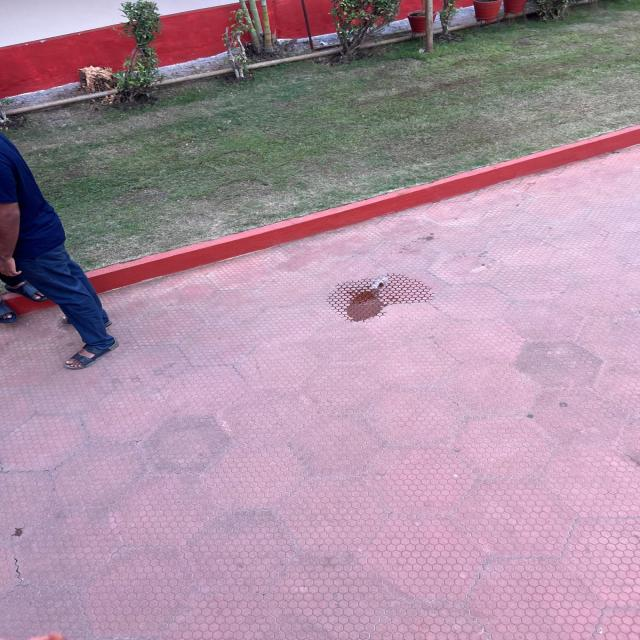cup: (371, 276, 389, 289)
spill: (350, 292, 380, 311)
